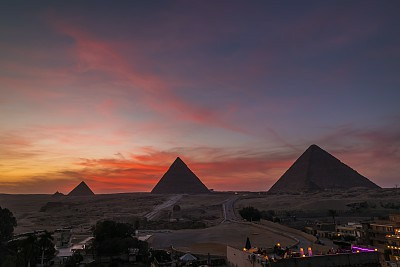Pyramid: (270, 143, 383, 190), (151, 157, 211, 193), (66, 181, 97, 196)
